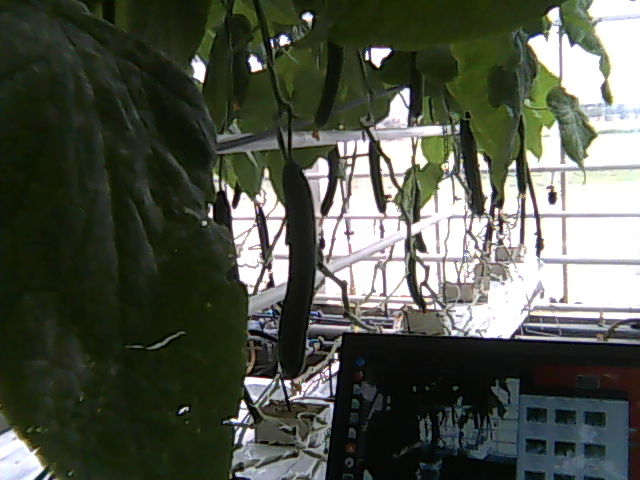concombre: (272, 154, 319, 397)
